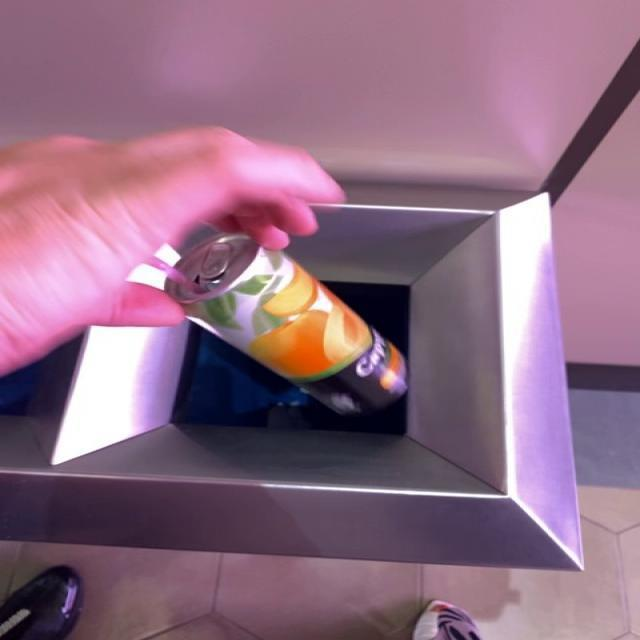Bin: (3, 185, 580, 570)
Metal: (153, 234, 405, 415)
